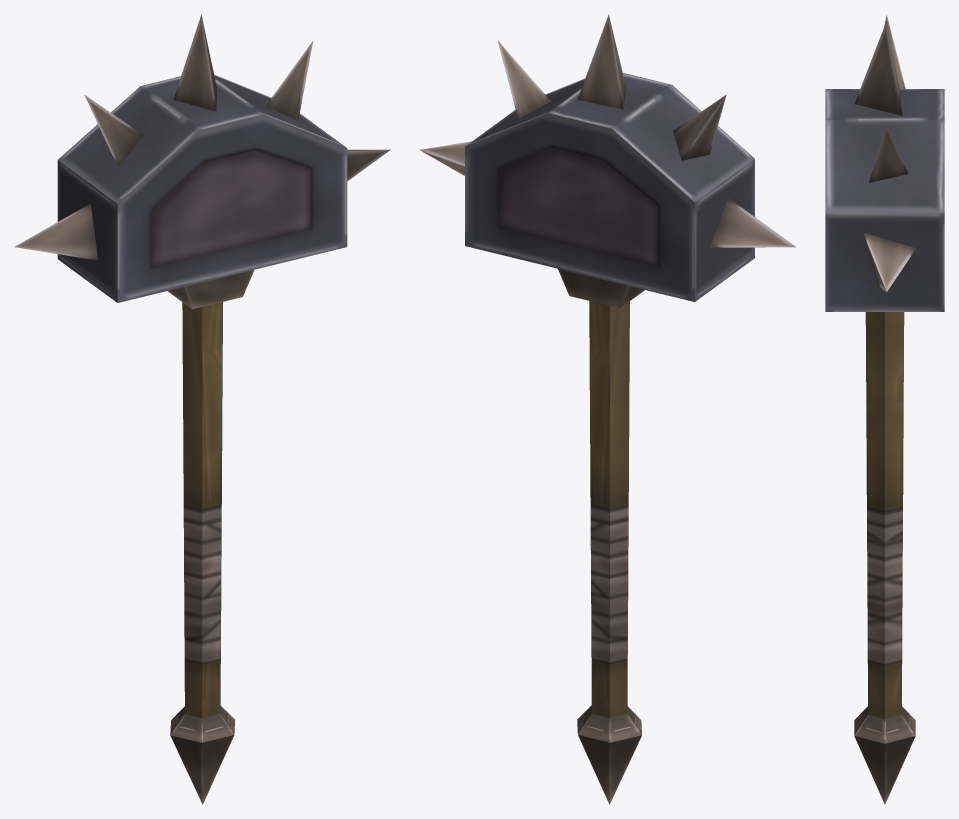
The model's file is battle_hammer_lvl_02.fbx.
The picture shows the model from 3 angles, left to right: view 1: azimuth 30°, elevation 25°; view 2: azimuth 150°, elevation 25°; view 3: azimuth 270°, elevation 25°; orthographic projection.
Parts seen in each view (by area): view 1: battle_hammer_lvl_02; view 2: battle_hammer_lvl_02; view 3: battle_hammer_lvl_02.
Part boxes in pixels (x1,y1,x2,y2): battle_hammer_lvl_02: [14, 14, 390, 804]; battle_hammer_lvl_02: [420, 14, 795, 804]; battle_hammer_lvl_02: [825, 14, 944, 804].
Bounding box in the file's own units: 3.72 × 7.45 × 1.03.
